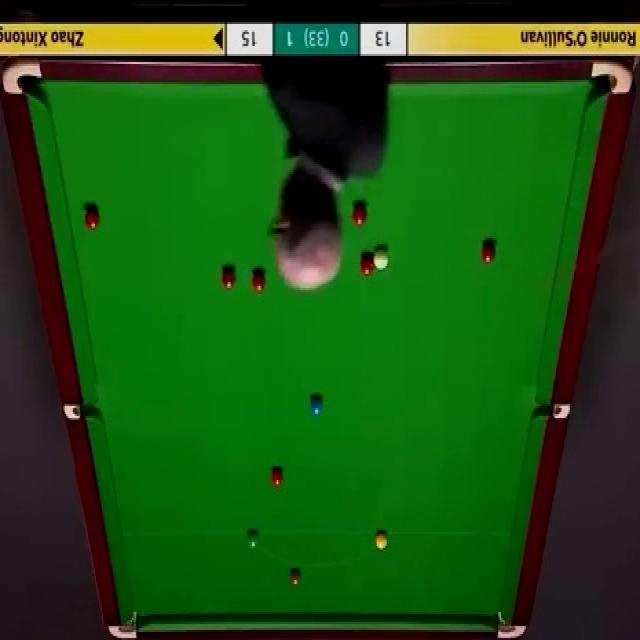pocket: (0, 58, 43, 97), (592, 57, 632, 95), (497, 611, 528, 638), (534, 403, 570, 423), (108, 614, 138, 638), (63, 405, 99, 420)
